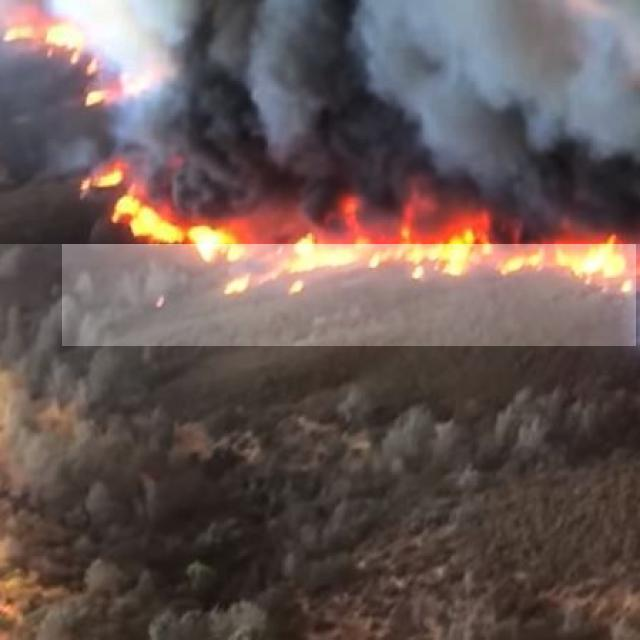Fire: (62, 120, 636, 346)
Smoke: (0, 0, 640, 244)
